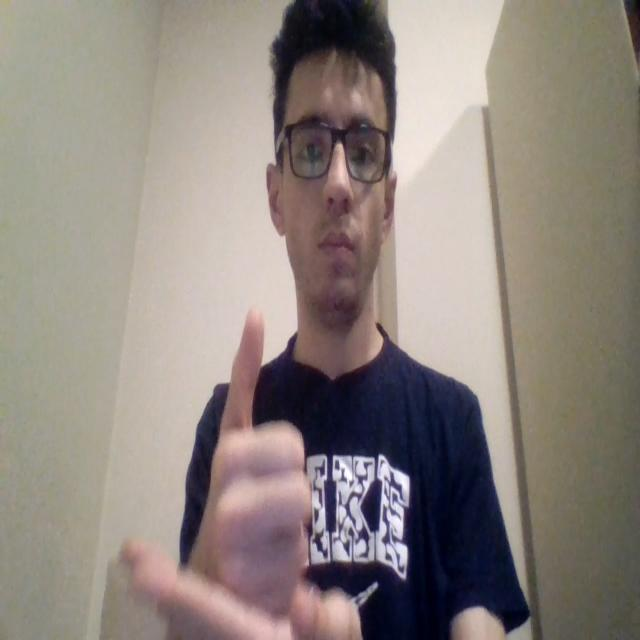help: (121, 306, 360, 640)
